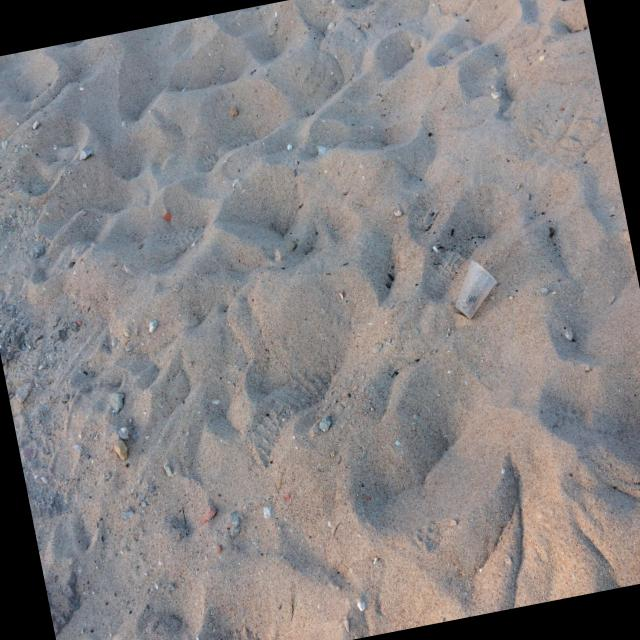less trash: (455, 261, 497, 320)
